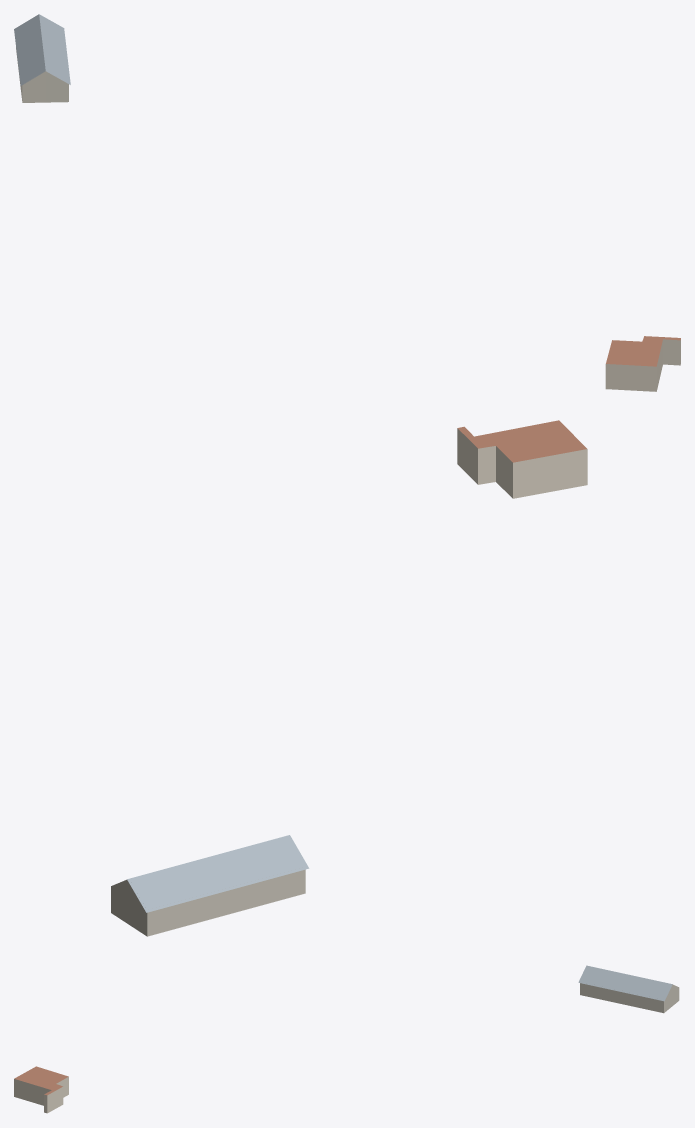
3 views of the same model, one above another, from view 1: azimuth 30°, elevation 25°; view 2: azimuth 150°, elevation 25°; view 3: azimuth 270°, elevation 25° (orthographic). The views are drawn at different scales.
Visible parts, largest first — view 1: tuile; view 2: tuile; view 3: tuile.
Part boxes in pixels (x1,y1,x2,y2): tuile: (14,14,680,391); tuile: (111,420,587,936); tuile: (14,965,679,1113).
Size of the model in its own units: 62.07 by 17.03 by 180.
